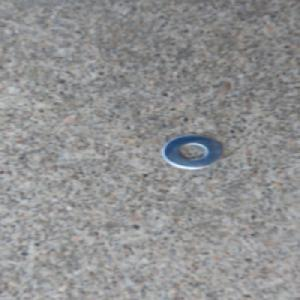Washer: (156, 132, 224, 171)
